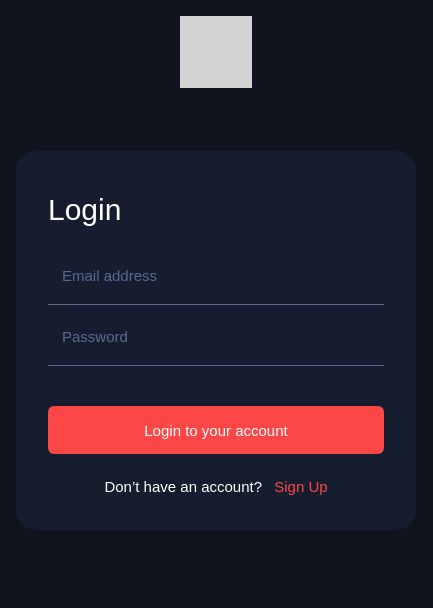
Test case: Auth component testing › When in singup mode right header, button text and inputs renders
What coordinates should you click on to do the following:
click the text named "login-toggle"
I would click on:
 (301, 486)
Its box is [274, 478, 328, 495].
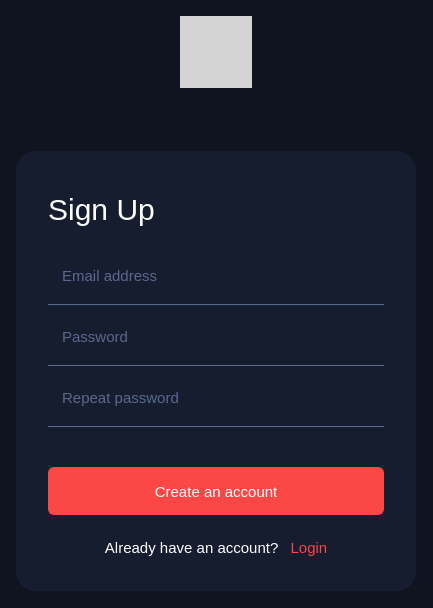
Expected: the heading reads "Sign Up", [48, 193, 155, 226]
Expected: the button reads "Create an account", [48, 467, 384, 515]
Expected: the text "Already have an account? Login" is shown, [105, 539, 327, 556]
